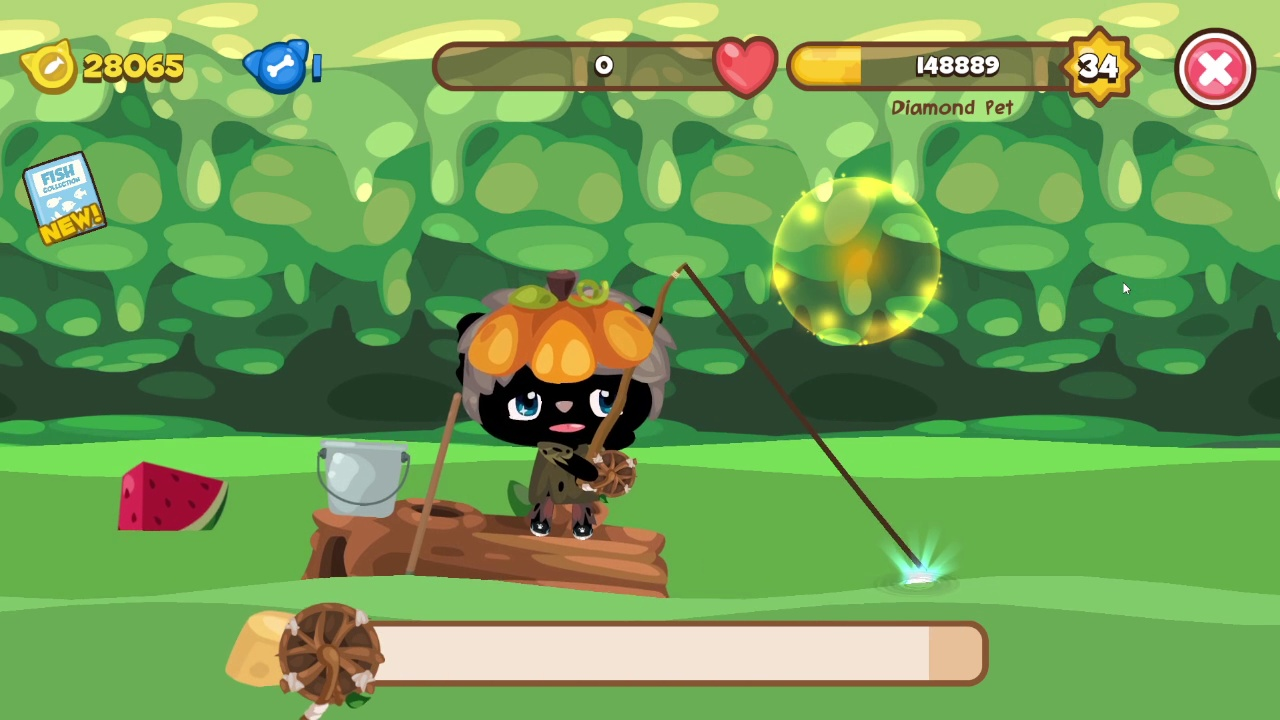point: (771, 175, 944, 347)
